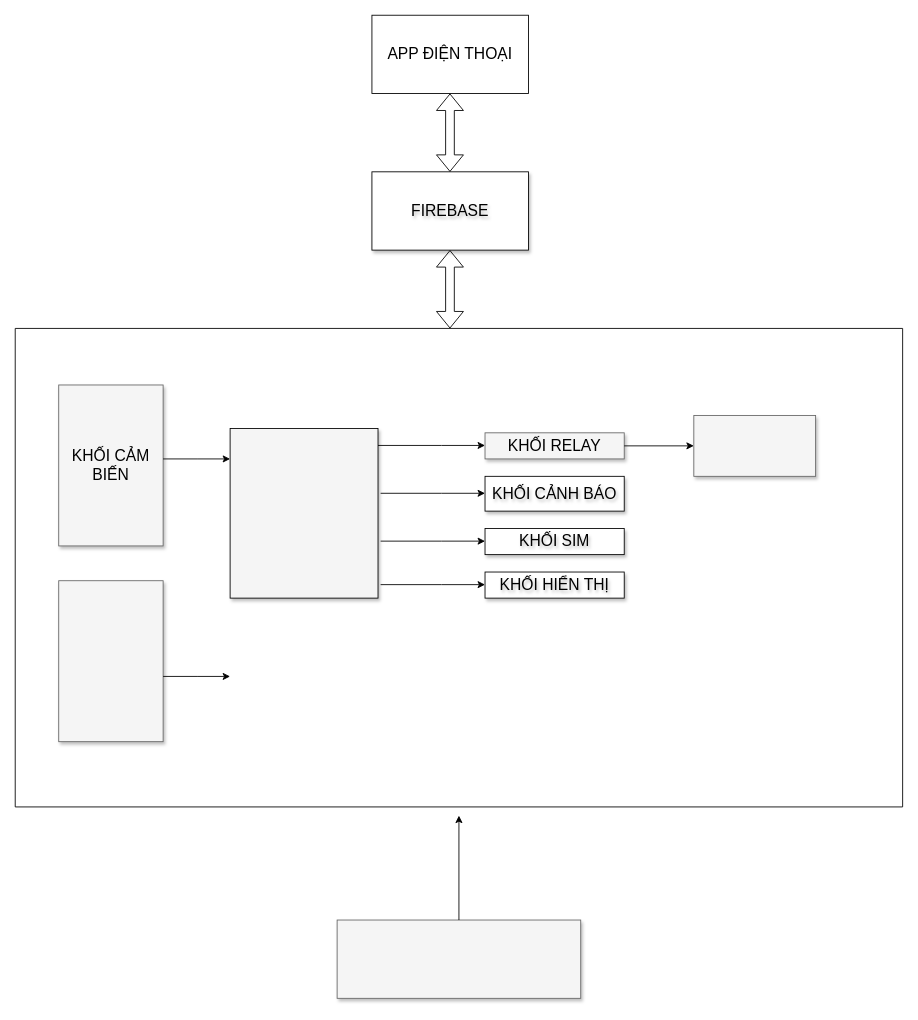
Some shapes in this 918 by 1020 pixel diagram are drawn without their labels. The shapes that lost their labels are listed below. From the top down, each one's centre as x and y in pixels, then its label:
(755,446): KHỐI THIẾT BỊ
(304,514): Arduino Mega 2560
(111,662): KHỐI NÚT NHẤN
(459,960): KHỐI NGUỒN
